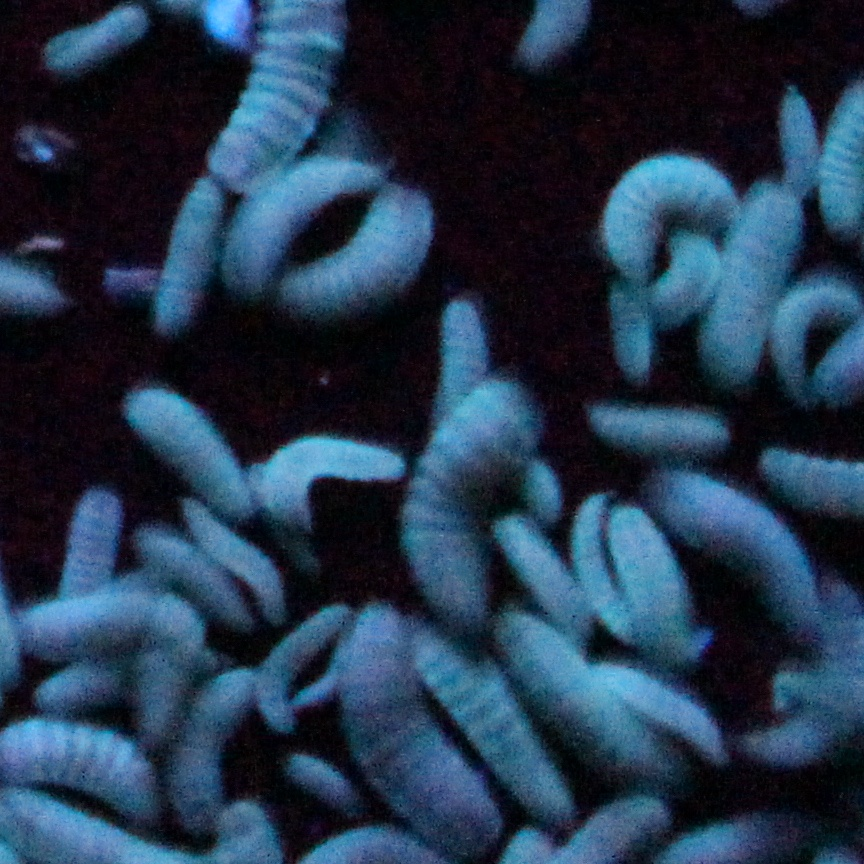larve: (337, 589, 503, 843), (393, 384, 546, 625), (407, 634, 591, 830), (668, 475, 841, 650), (505, 616, 671, 782), (221, 139, 389, 282), (700, 182, 800, 393), (123, 384, 266, 525), (278, 191, 439, 309), (593, 657, 741, 778), (605, 146, 739, 278), (243, 596, 346, 741), (600, 498, 687, 664), (171, 659, 253, 832), (257, 439, 405, 525), (148, 168, 216, 339), (3, 591, 209, 646), (184, 498, 280, 616), (496, 516, 591, 632), (587, 393, 737, 462), (134, 537, 239, 623), (568, 487, 625, 632), (434, 293, 505, 409), (50, 491, 130, 587), (771, 71, 825, 205), (41, 7, 146, 66), (650, 234, 730, 307), (282, 748, 366, 816), (609, 278, 659, 380), (37, 657, 125, 714)
